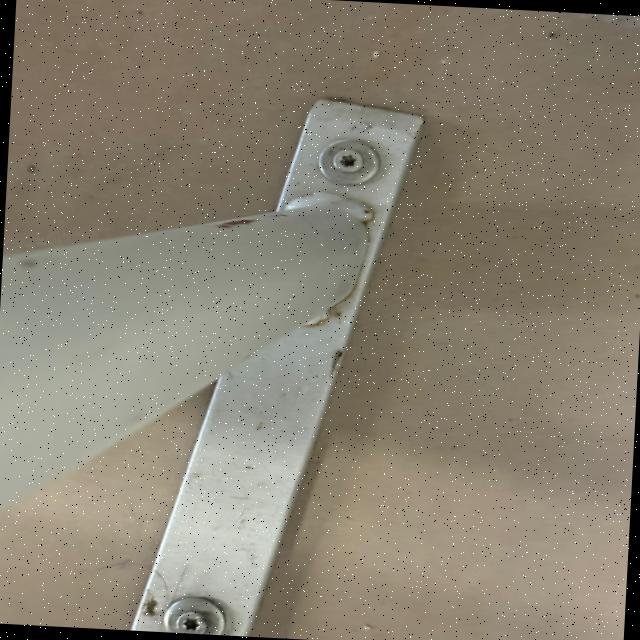Torx: (326, 146, 374, 180), (170, 606, 222, 636)
